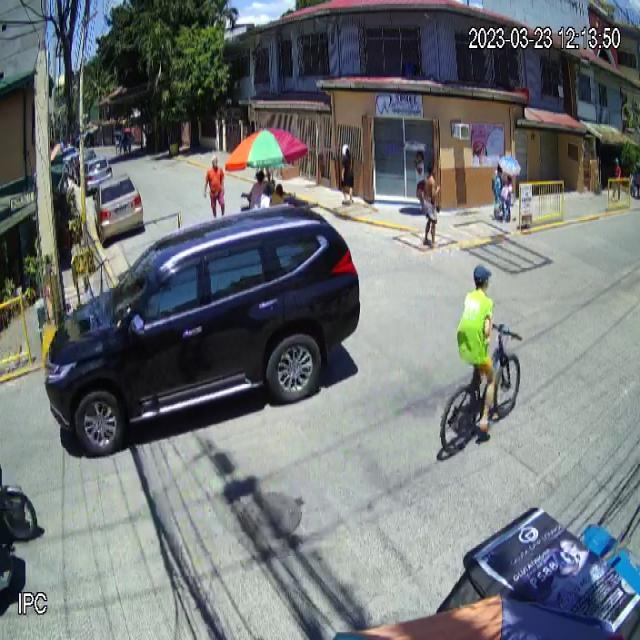Car: (41, 202, 363, 458)
